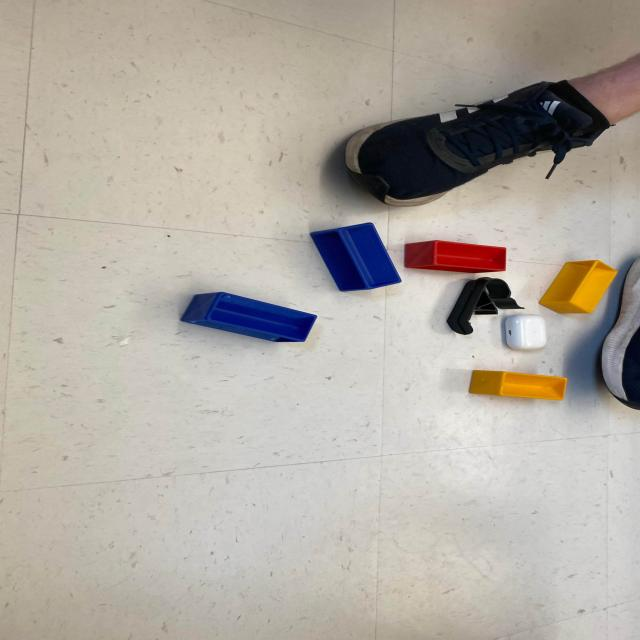blue-specimen: (179, 292, 317, 342), (310, 222, 402, 292)
red-specimen: (404, 240, 507, 273)
yellow-specimen: (538, 260, 618, 313), (470, 370, 567, 401)
